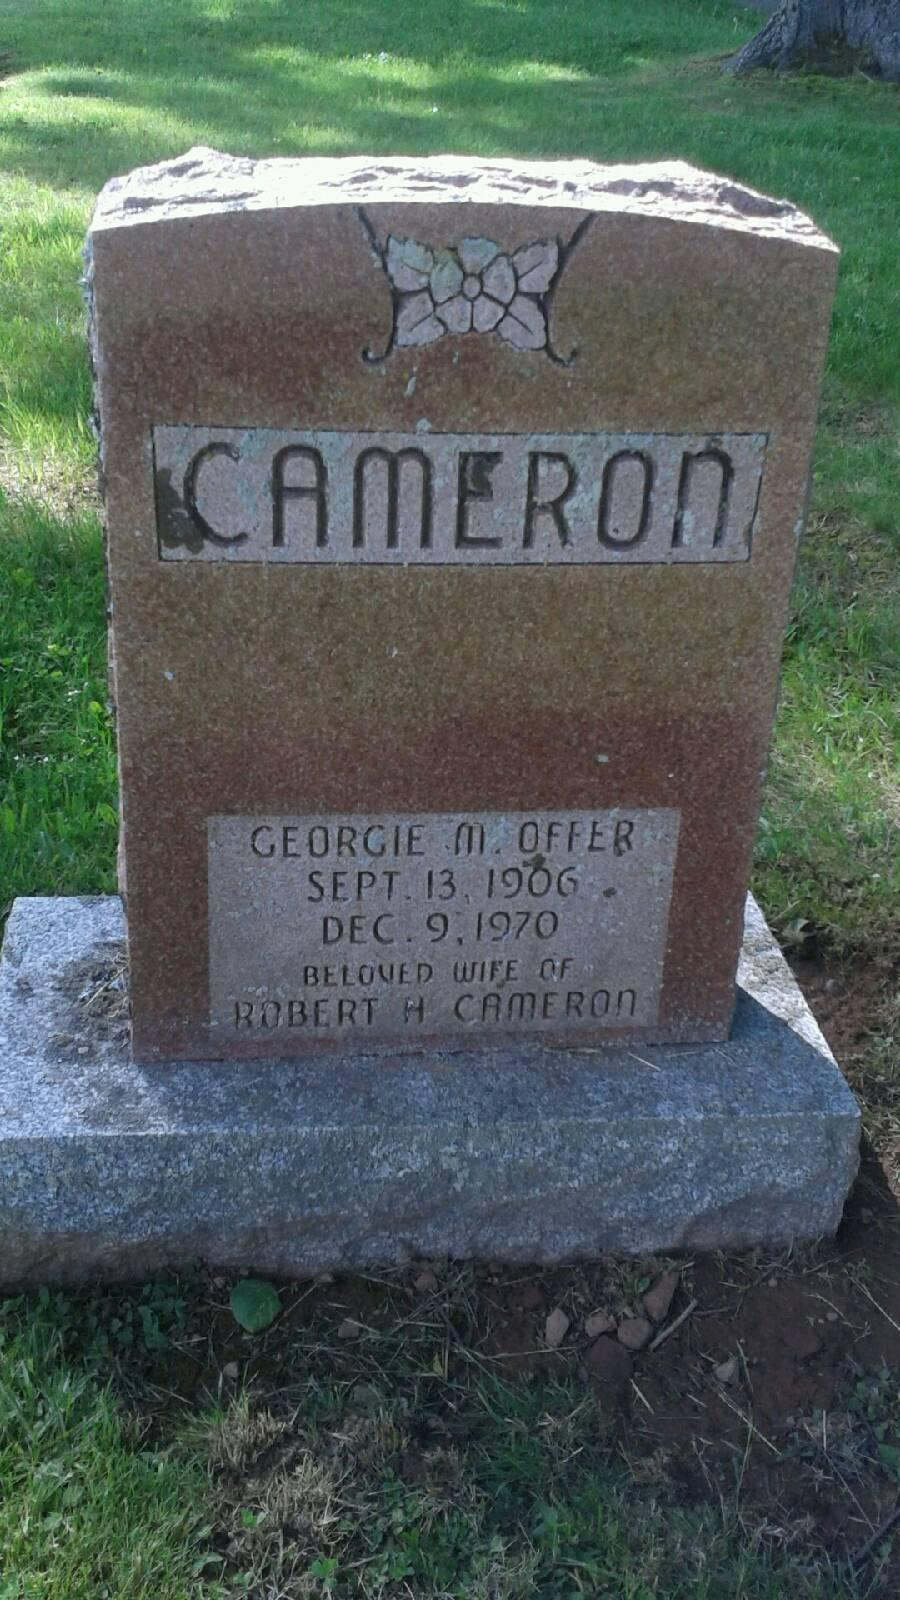upright: (27, 125, 856, 1300)
